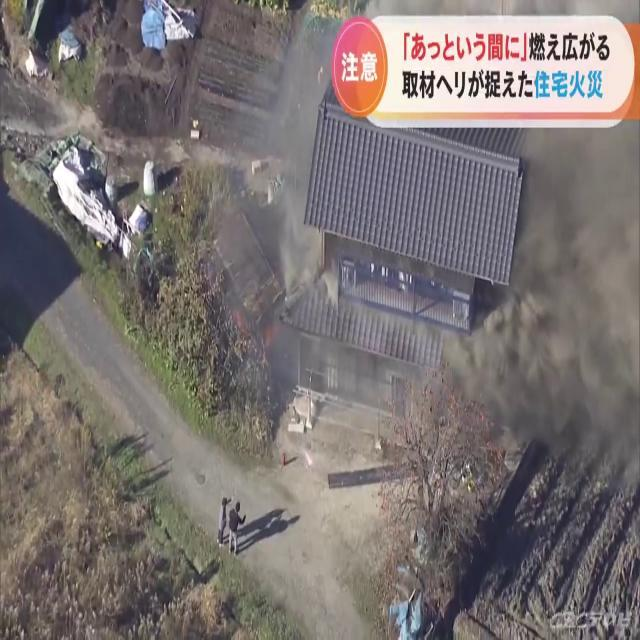Smoke: (463, 105, 640, 546), (245, 14, 340, 296)
